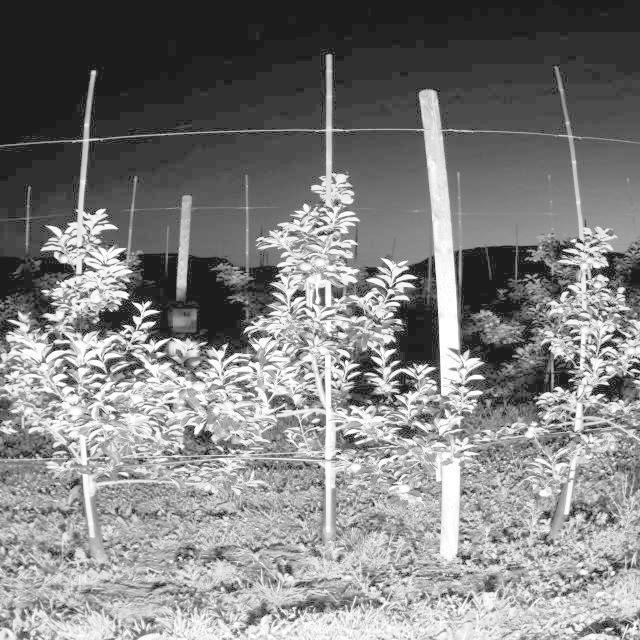Tree: (228, 173, 407, 549), (20, 209, 151, 566), (513, 223, 640, 528)
